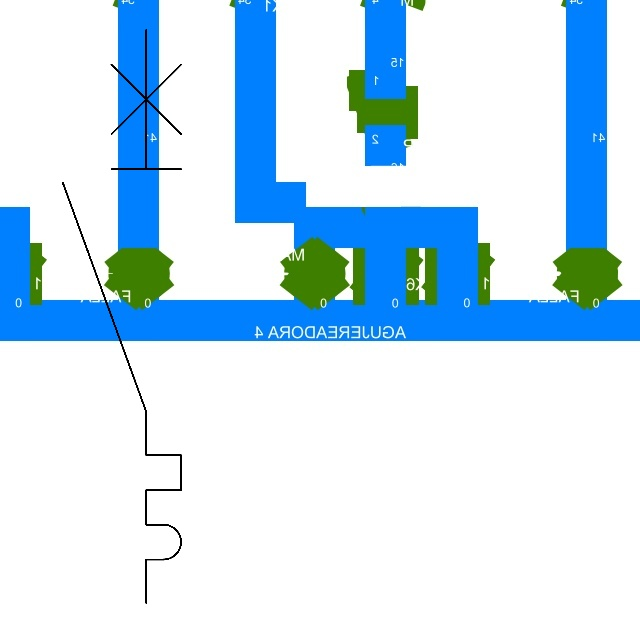interruptor_termomagnetico: (48, 15, 196, 618)
